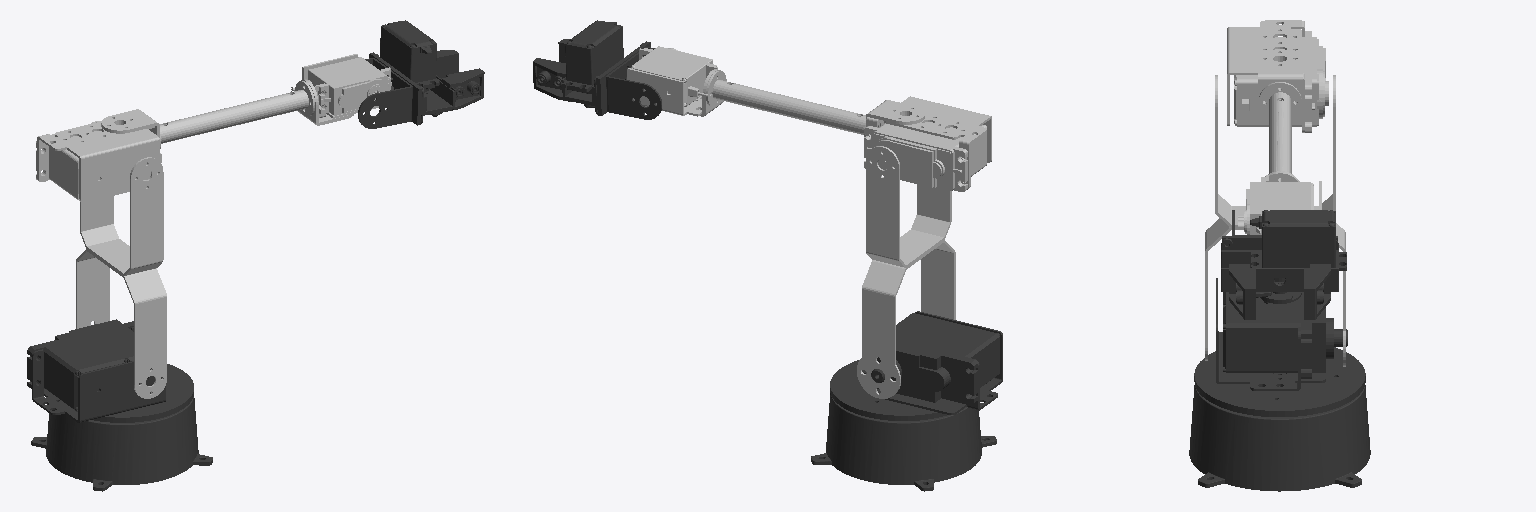
The robot description file, URDF, robot "AL5D":
<?xml version="1.0" ?>
<!-- =================================================================================== -->
<!-- |    This document was autogenerated by xacro from al5d_robot.urdf.xacro       | -->
<!-- |    EDITING THIS FILE BY HAND IS NOT RECOMMENDED                                 | -->
<!-- =================================================================================== -->
<robot name="AL5D" xmlns:xacro="http://www.ros.org/wiki/xacro">
  <material name="gray">
    <color rgba="0.8 0.8 0.8 0.9"/>
  </material>
  <material name="black">
    <color rgba="0.3 0.3 0.3 0.9"/>
  </material>

  <link name="base">
    <visual>
      <geometry>
        <mesh filename="package://al5d_description/meshes/base.stl" scale="0.001 0.001 0.001"/>
      </geometry>
      <origin rpy="0 0 0"/>
      <material name="black"/>
    </visual>
    <inertial>
      <mass value="0.092"/>
      <inertia ixx="0.0" ixy="0.0" ixz="0.0" iyy="0.0" iyz="0.0" izz="0.0"/>
    </inertial>
  </link>

  <link name="link1">
    <visual>
      <geometry>
        <mesh filename="package://al5d_description/meshes/link1.stl" scale="0.001 0.001 0.001"/>
      </geometry>
      <origin rpy="0 0 0" xyz="0 0 0"/>
      <material name="black"/>
    </visual>
    <inertial>
      <mass value="0.187"/>
      <inertia ixx="0.0" ixy="0.0" ixz="0.0" iyy="0.0" iyz="0.0" izz="0.0"/>
    </inertial>
  </link>

  <link name="link2">
    <visual>
      <geometry>
        <mesh filename="package://al5d_description/meshes/link2.stl" scale="0.001 0.001 0.001"/>
      </geometry>
      <origin xyz="0 0 0"/>
      <material name="gray"/>
    </visual>
    <inertial>
      <mass value="0.044"/>
      <inertia ixx="0.0" ixy="0.0" ixz="0.0" iyy="0.0" iyz="0.0" izz="0.0"/>
    </inertial>
  </link>

  <link name="link3">
    <visual>
      <geometry>
        <mesh filename="package://al5d_description/meshes/link3.stl" scale="0.001 0.001 0.001"/>
      </geometry>
      <origin rpy="0 0 -0.0427" xyz="0 0 0"/>
      <material name="gray"/>
    </visual>
    <inertial>
      <mass value="0.207"/>
      <inertia ixx="0.0" ixy="0.0" ixz="0.0" iyy="0.0" iyz="0.0" izz="0.0"/>
    </inertial>
  </link>
  
  <link name="link4">
    <visual>
      <geometry>
        <mesh filename="package://al5d_description/meshes/link4.stl" scale="0.001 0.001 0.001"/>
      </geometry>
      <origin rpy="0 0 1.528096327" xyz="0 0 0"/>
      <material name="black"/>
    </visual>
    <inertial>
      <mass value="0.081"/>
      <inertia ixx="0.0" ixy="0.0" ixz="0.0" iyy="0.0" iyz="0.0" izz="0.0"/>
    </inertial>
  </link>

  <joint name="j1" type="revolute">
    <parent link="base"/>
    <child link="link1"/>
    <origin rpy="0 3.141592653 0" xyz="0 0 0.06858"/>
    <axis xyz="0 0 1"/>
    <!-- This is descibed in child frame -->
    <limit effort="1000.0" lower="-1.570796325" upper="1.570796325" velocity="0"/>
  </joint>

  <joint name="j2" type="revolute">
    <parent link="link1"/>
    <child link="link2"/>
    <origin rpy="0 1.570796325 -1.570796325" xyz="0.002 0 0"/>
    <axis xyz="0 0 1"/>
    <!-- This is descibed in child frame -->
    <limit effort="1000.0" lower="-1.570796325" upper="1.570796325" velocity="0"/>
  </joint>

  <joint name="j3" type="revolute">
    <parent link="link2"/>
    <child link="link3"/>
    <origin rpy="0 3.141592653 1.570796325" xyz="0.14679 0 0"/>
    <axis xyz="0 0 1"/>
    <!-- This is descibed in child frame -->
    <limit effort="1000.0" lower="-1.570796325" upper="1.570796325" velocity="0"/>
  </joint>

  <joint name="j4" type="revolute">
    <parent link="link3"/>
    <child link="link4"/>
    <origin rpy="3.141592653 0 1.570796325" xyz="0.17751 0 0"/>
    <axis xyz="0 0 1"/>
    <limit effort="1000.0" lower="-1.570796325" upper="1.570796325" velocity="0"/>
  </joint>
</robot>

--- Render facts (derived) ---
3 views of the same robot in one strip: view 1: azimuth 30°, elevation 25°; view 2: azimuth 150°, elevation 25°; view 3: azimuth 270°, elevation 25° (orthographic).
Robot: AL5D — 5 links, 4 joints (4 revolute); root link base; default pose: every joint at zero.
Links seen in each view (by area): view 1: link3, link2, link1, base, link4; view 2: link3, link2, link1, base, link4; view 3: link1, base, link3, link4, link2.
Boxes of the visible links, x1=… form: link3: x1=36, y1=54, x2=391, y2=202; link2: x1=76, y1=121, x2=166, y2=398; link1: x1=27, y1=319, x2=193, y2=422; base: x1=31, y1=397, x2=212, y2=491; link4: x1=358, y1=20, x2=484, y2=128; link3: x1=627, y1=46, x2=991, y2=191; link2: x1=857, y1=146, x2=955, y2=398; link1: x1=830, y1=311, x2=1002, y2=420; base: x1=811, y1=393, x2=996, y2=491; link4: x1=533, y1=20, x2=661, y2=119; link1: x1=1194, y1=278, x2=1365, y2=416; base: x1=1189, y1=385, x2=1370, y2=491; link3: x1=1227, y1=20, x2=1328, y2=234; link4: x1=1221, y1=210, x2=1346, y2=319; link2: x1=1205, y1=75, x2=1345, y2=366.
Size in the robot's own frame: 0.323 by 0.0996 by 0.2472 metres.
5 mesh visuals loaded from 5 distinct referenced files (5 binary STL).